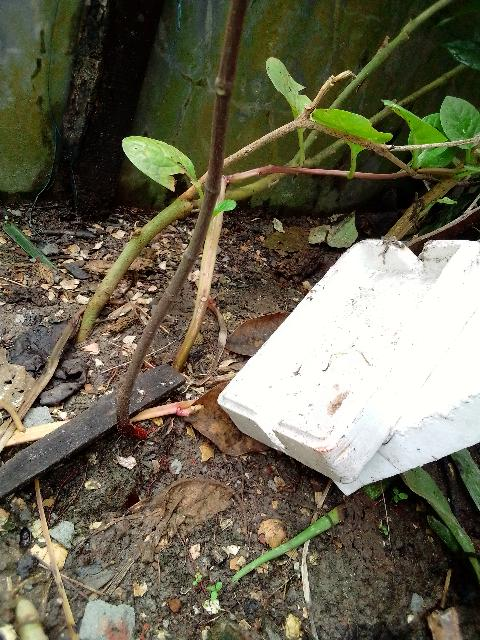cocksheet: (191, 240, 480, 516)
